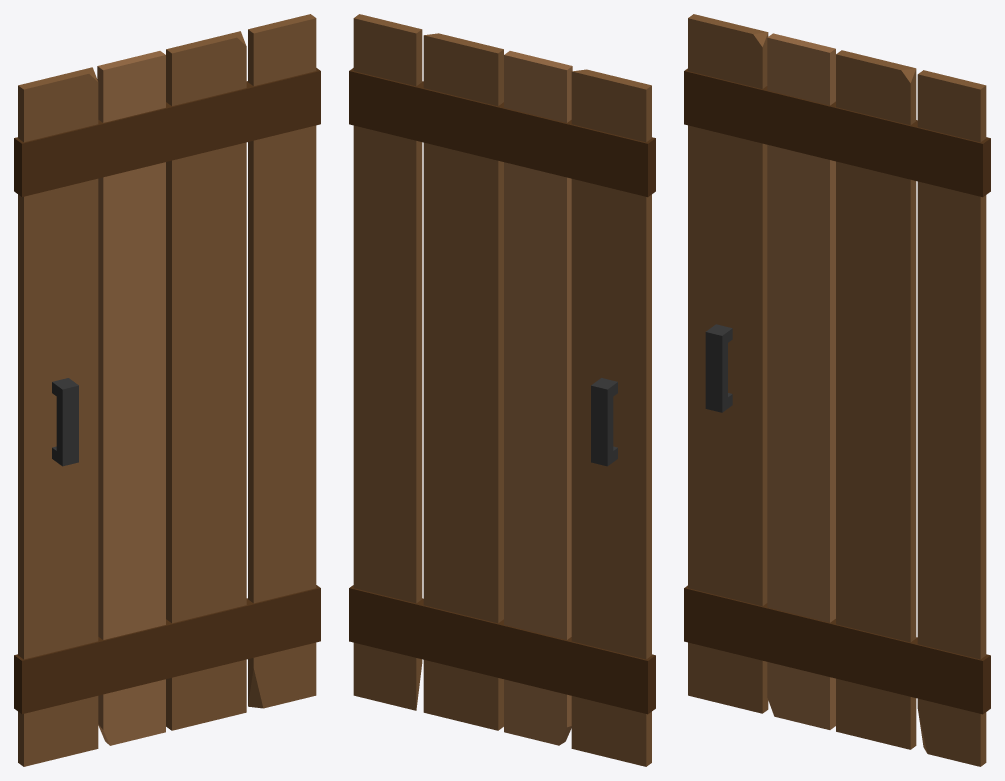
Rendered from House_05_Door.fbx.
3 renders of one model, left to right at view 1: azimuth 30°, elevation 25°; view 2: azimuth 150°, elevation 25°; view 3: azimuth 330°, elevation 25°, orthographic.
Parts seen in each view (by area): view 1: House_05_Door; view 2: House_05_Door; view 3: House_05_Door.
Part boxes in pixels (left/top/right/bottom): House_05_Door: left=14, top=14, right=320, bottom=766; House_05_Door: left=349, top=14, right=655, bottom=766; House_05_Door: left=684, top=14, right=990, bottom=766.
Bounding box in the file's own units: 89.8 × 195 × 13.98.
